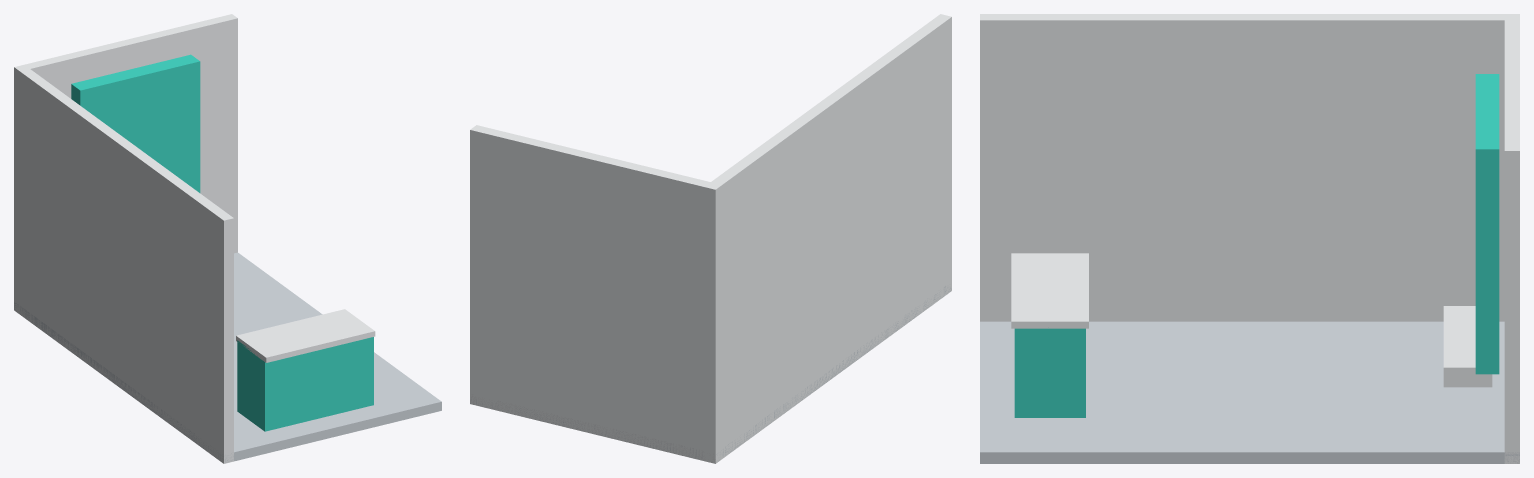
3 views of the same model, side by side, from view 1: azimuth 30°, elevation 25°; view 2: azimuth 150°, elevation 25°; view 3: azimuth 270°, elevation 25° (orthographic). The views are drawn at different scales.
Parts seen in each view (by area): view 1: Exhibition Booth Concept; view 2: Exhibition Booth Concept; view 3: Exhibition Booth Concept.
Part boxes in pixels (box(x1,y1,x2,y2)): Exhibition Booth Concept: box(14, 14, 441, 463); Exhibition Booth Concept: box(470, 14, 951, 463); Exhibition Booth Concept: box(980, 14, 1519, 463).
Bounding box in the file's own units: 3 × 3.2 × 5.
